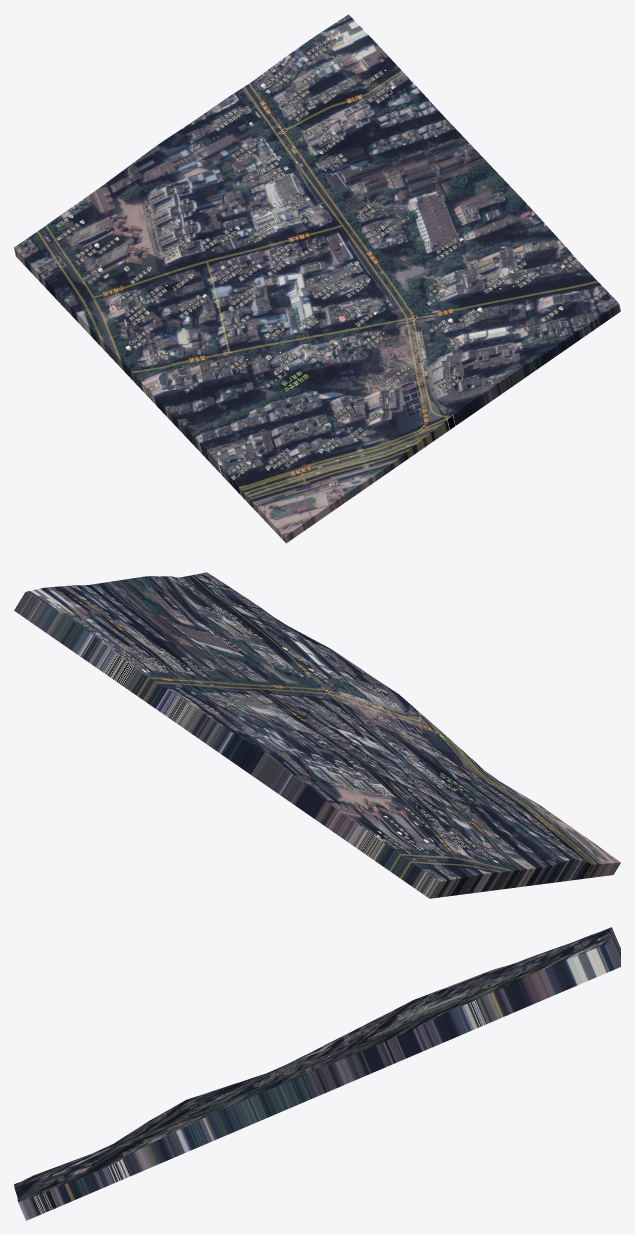
The picture shows the model from 3 angles, top to bottom: view 1: azimuth 30°, elevation 25°; view 2: azimuth 150°, elevation 25°; view 3: azimuth 270°, elevation 25°; orthographic projection. The views are drawn at different scales.
Visible parts, largest first — view 1: 0_8_7; view 2: 0_8_7; view 3: 0_8_7.
Boxes of the visible parts, left/top/right/bottom form: 0_8_7: left=14, top=14, right=620, bottom=543; 0_8_7: left=14, top=572, right=620, bottom=898; 0_8_7: left=14, top=927, right=620, bottom=1220.
Size of the model in its own units: 600 by 448 by 553.
1 material, 1 textured.
